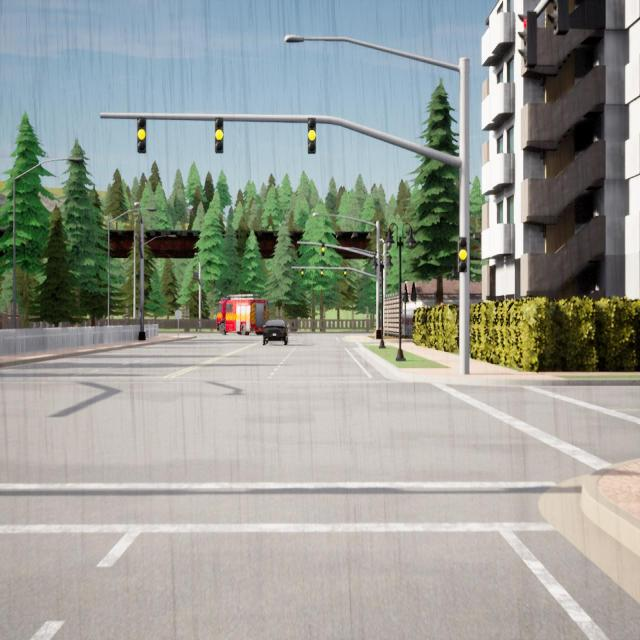Traffic_Signs: (175, 310, 181, 318)
Vehicle: (216, 294, 269, 334), (263, 320, 288, 345)
traffic_light: (516, 10, 538, 68), (548, 1, 568, 36), (458, 236, 467, 272), (138, 117, 146, 153), (308, 117, 316, 153), (216, 117, 223, 153), (201, 301, 204, 311), (322, 243, 324, 256), (301, 269, 304, 277), (321, 269, 323, 277), (344, 270, 346, 277), (193, 272, 195, 279), (196, 273, 198, 280), (195, 272, 196, 280)
